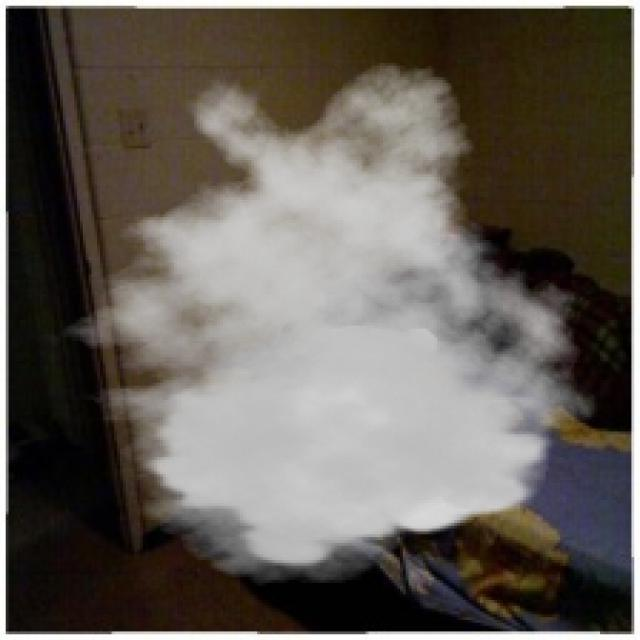Smoke: (37, 60, 606, 586)
